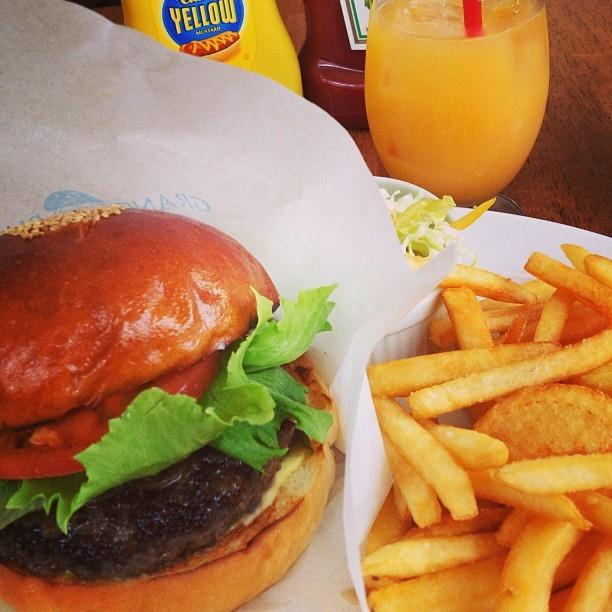lettuce: (1, 282, 340, 536), (395, 195, 456, 245), (406, 227, 448, 260)
tomato: (1, 349, 222, 480)
